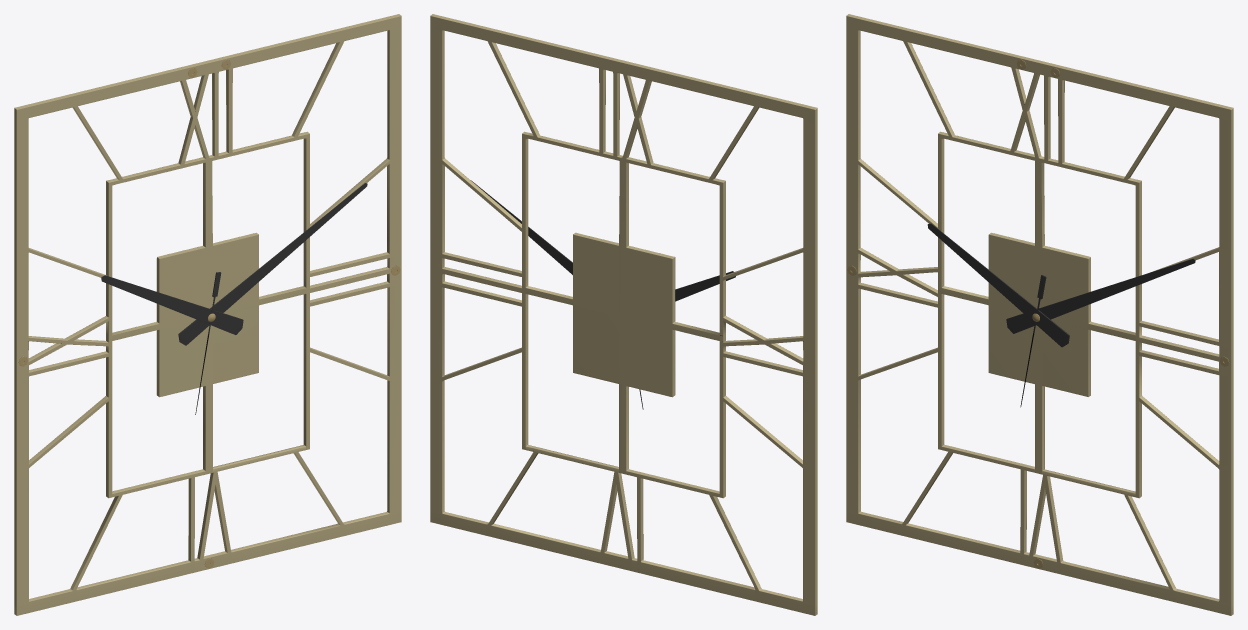
File: MH004_Clock_04.gltf
3 renders of one model, left to right at view 1: azimuth 30°, elevation 25°; view 2: azimuth 150°, elevation 25°; view 3: azimuth 330°, elevation 25°, orthographic.
Visible parts, largest first — view 1: ClockBody; view 2: ClockBody; view 3: ClockBody.
Boxes of the visible parts, bbox=[...] form: ClockBody: bbox=[14, 14, 401, 615]; ClockBody: bbox=[430, 14, 817, 615]; ClockBody: bbox=[846, 14, 1233, 615].
Size of the model in its own units: 0.39 by 0.49 by 0.0101.
Materials: 1 (1 with a texture image).
